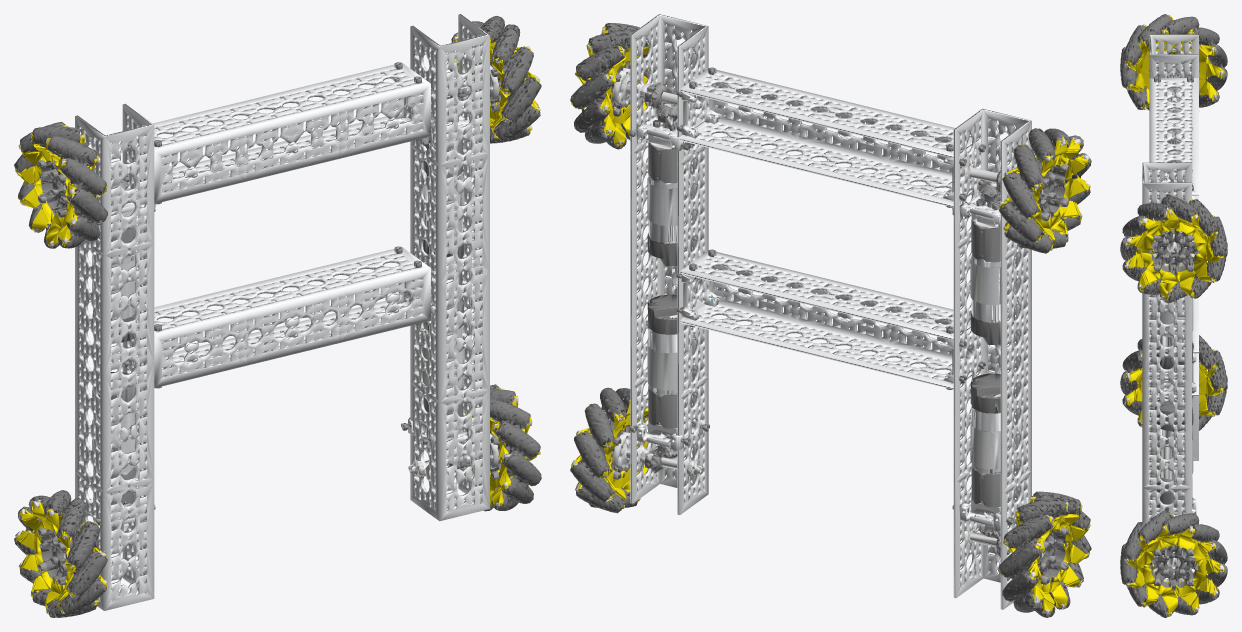
The model's file is assembly-3209.glb.
The picture shows the model from 3 angles, left to right: view 1: azimuth 30°, elevation 25°; view 2: azimuth 150°, elevation 25°; view 3: azimuth 270°, elevation 25°; orthographic projection. The views are drawn at different scales.
Visible parts, largest first — view 1: 3209-0001-0007; view 2: 3209-0001-0007; view 3: 3209-0001-0007.
Part boxes in pixels (x1,y1,x2,y2): 3209-0001-0007: [14, 14, 541, 617]; 3209-0001-0007: [570, 14, 1091, 617]; 3209-0001-0007: [1120, 14, 1227, 617].
Size of the model in its own units: 45.17 by 44.67 by 10.36.
